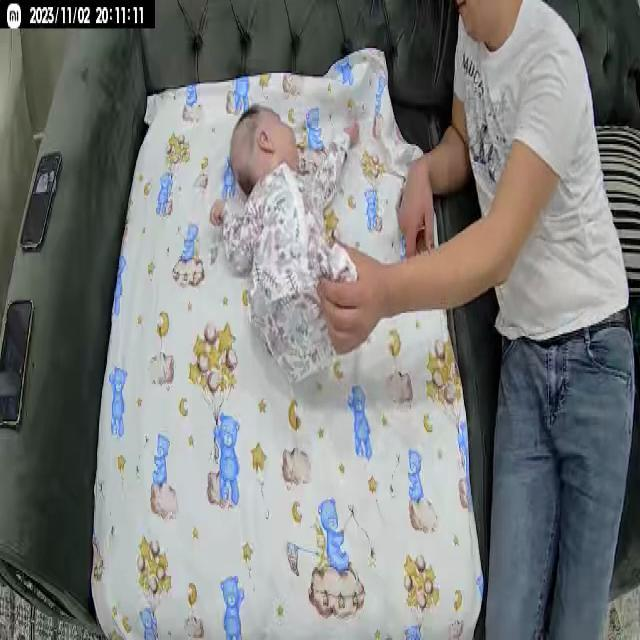baby: (205, 104, 356, 414)
